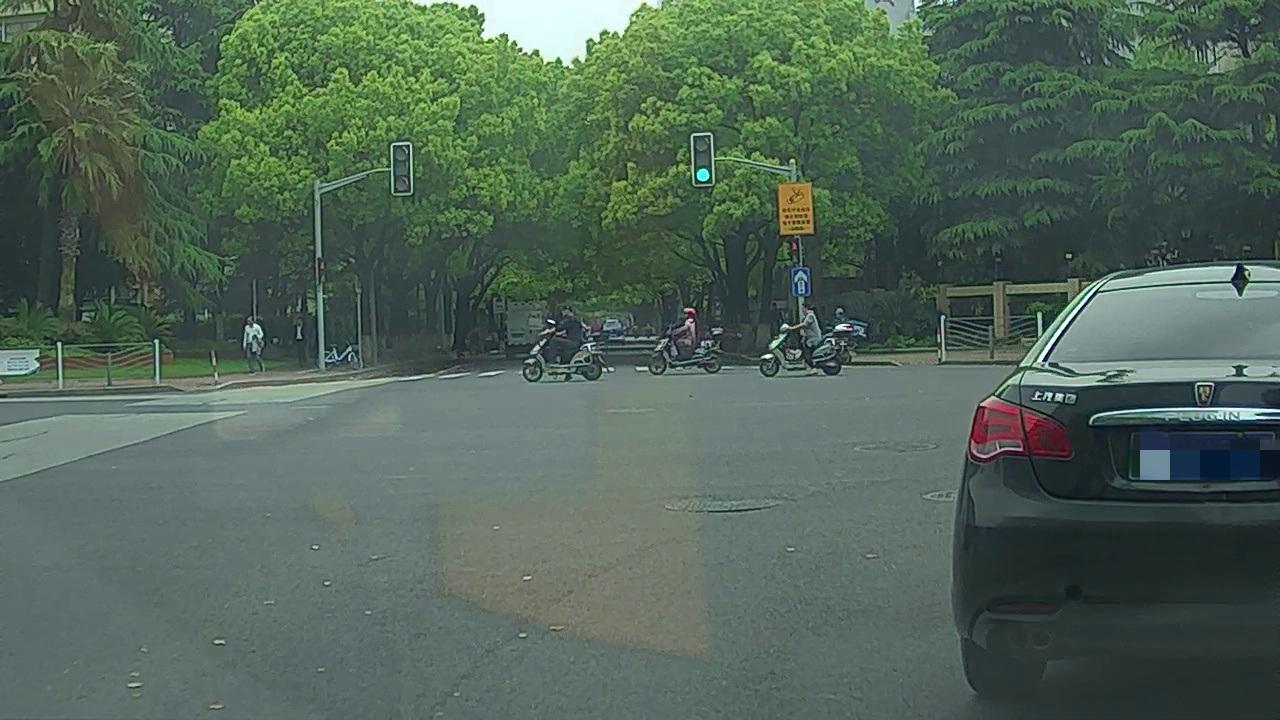traffic_light: (694, 134, 714, 185), (392, 142, 410, 194)
